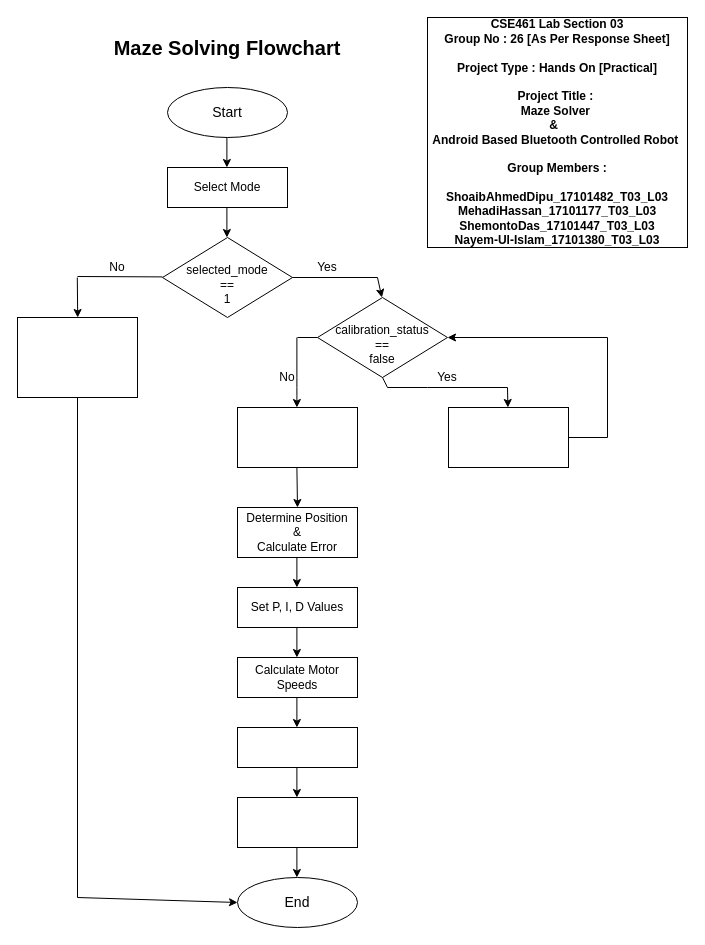
Image size: 705x945. Some labels were removed from this diagram. The centre of each missing label's shape, as x and y in pixels:
Calibrate [ Call calibrate() ]: pixel 508 437
Call forward_brake() To Move The Robot Accordingly: pixel 297 822
Set The Mode Android Based Bluetooth Control: pixel 77 357
Solve Maze [ Call PID_Cotrol() ]: pixel 297 437
Update Motor Speeds: pixel 297 747
